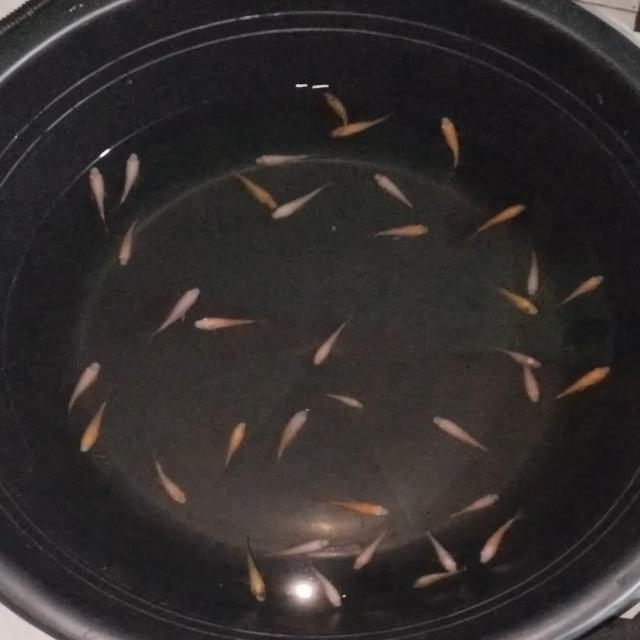nila: (476, 508, 526, 566), (310, 310, 356, 370), (268, 179, 332, 222), (431, 412, 494, 454), (466, 200, 528, 242), (152, 287, 202, 335), (64, 358, 102, 420), (330, 108, 402, 140), (486, 279, 542, 320), (274, 406, 312, 466), (555, 268, 606, 312), (556, 364, 615, 402), (80, 388, 112, 458), (238, 534, 269, 601), (372, 170, 419, 214), (111, 148, 143, 212), (352, 524, 392, 575), (230, 168, 277, 211), (302, 564, 344, 610), (195, 310, 273, 334), (154, 451, 188, 506), (448, 488, 502, 522), (85, 165, 112, 232), (422, 526, 460, 573), (321, 496, 388, 522), (264, 536, 334, 560), (440, 112, 466, 176), (488, 343, 545, 370), (364, 222, 434, 242), (321, 388, 369, 416), (413, 566, 468, 590), (320, 87, 352, 128), (221, 418, 247, 468), (116, 214, 140, 268), (517, 357, 544, 405), (252, 149, 314, 166), (526, 246, 542, 296)
